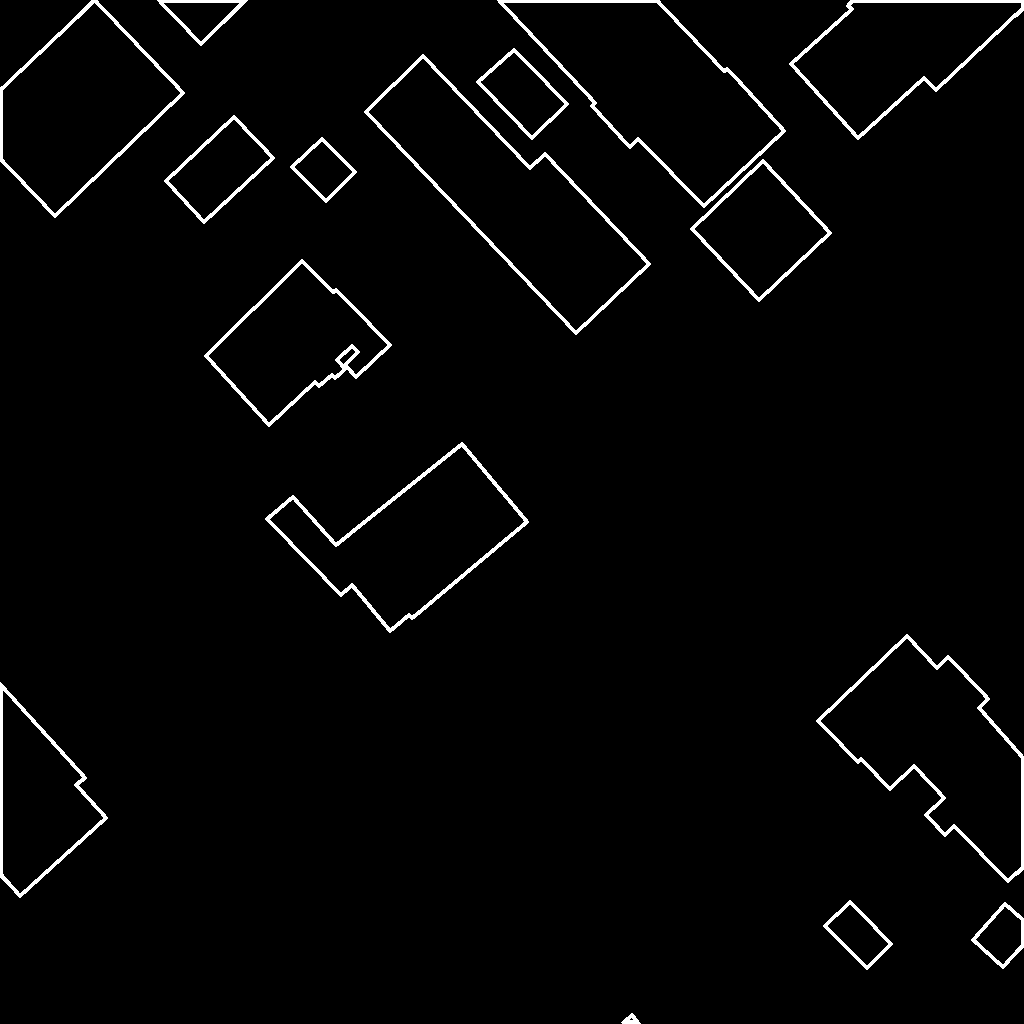building: (366, 56, 650, 334), (498, 0, 785, 207), (818, 636, 1024, 882), (267, 444, 528, 632), (0, 0, 184, 217), (791, 0, 1024, 139), (206, 261, 391, 426), (0, 684, 107, 897), (692, 161, 831, 301), (166, 117, 274, 223), (478, 50, 568, 139), (825, 902, 892, 969), (292, 139, 356, 202), (158, 0, 247, 45), (973, 904, 1024, 968), (623, 1015, 640, 1024)
